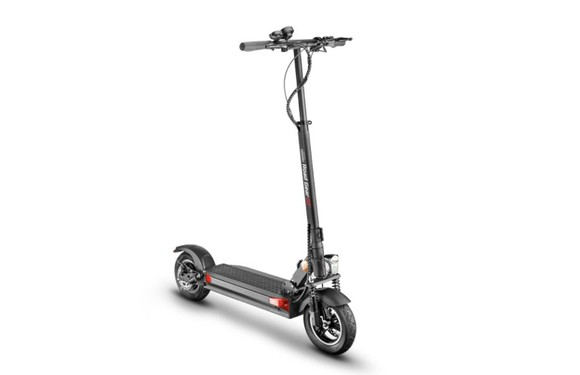kick_board: (173, 21, 355, 354)
kick_body: (206, 259, 310, 316)
kick_handler: (236, 26, 352, 55)
kick_neck: (283, 51, 340, 284)
kick_wheel: (301, 288, 355, 352), (171, 245, 212, 298)
